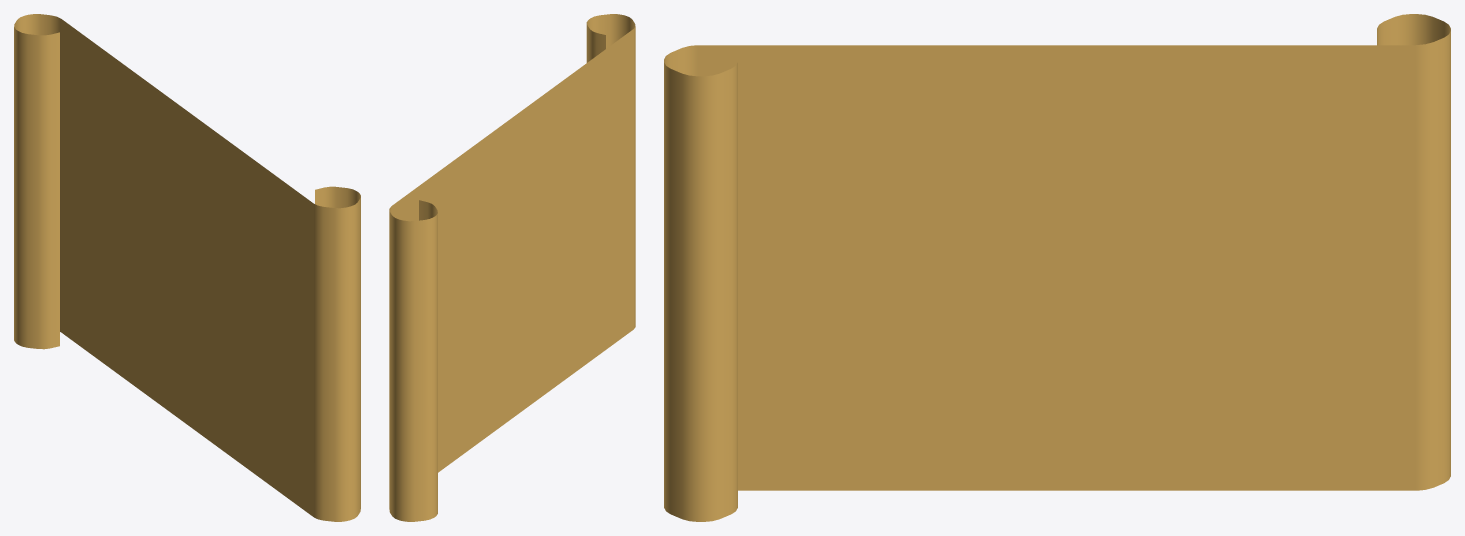
Rendered from DecisionPaperFIX.fbx.
The picture shows the model from 3 angles, left to right: view 1: azimuth 30°, elevation 25°; view 2: azimuth 150°, elevation 25°; view 3: azimuth 270°, elevation 25°; orthographic projection. The views are drawn at different scales.
Parts seen in each view (by area): view 1: Mesh; view 2: Mesh; view 3: Mesh.
Part boxes in pixels (box(x1,y1,x2,y2)): Mesh: box(14, 14, 360, 521); Mesh: box(389, 14, 635, 521); Mesh: box(664, 14, 1450, 521).
Size of the model in its own units: 60 by 200 by 320.
